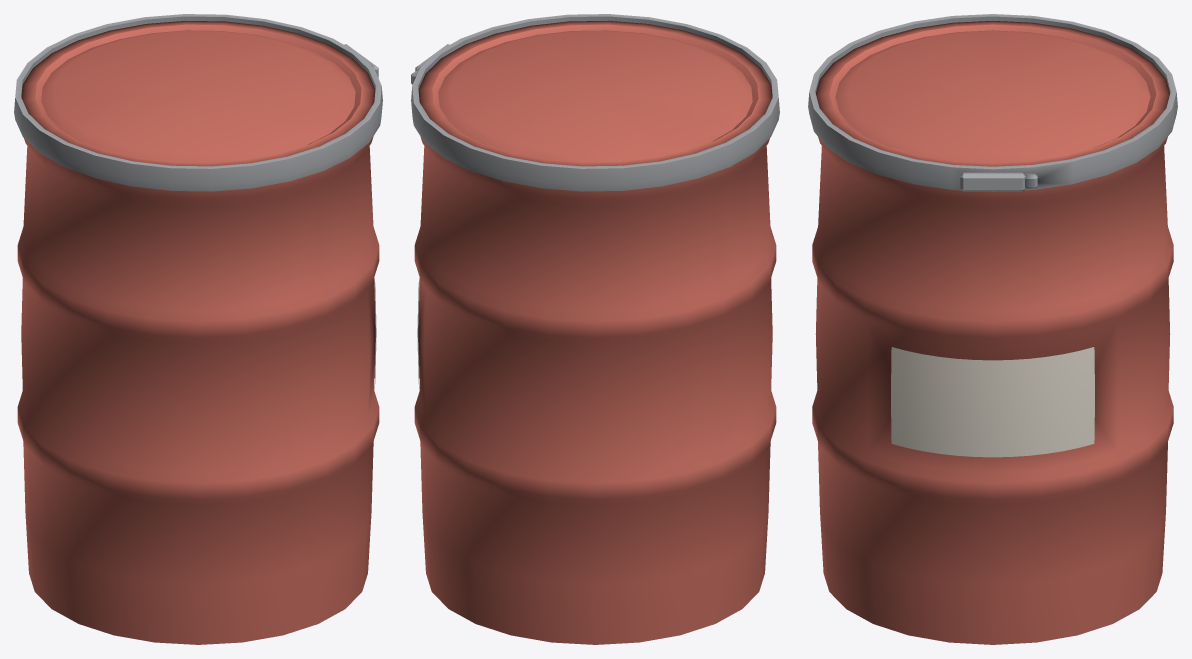
File: barrel.glb
The picture shows the model from 3 angles, left to right: view 1: azimuth 30°, elevation 25°; view 2: azimuth 150°, elevation 25°; view 3: azimuth 270°, elevation 25°; orthographic projection.
Visible parts, largest first — view 1: PART, LID; view 2: PART, LID; view 3: PART, LID.
Boxes of the visible parts, bbox=[...] form: PART: bbox=[17, 136, 379, 644]; LID: bbox=[14, 14, 382, 191]; PART: bbox=[414, 136, 776, 644]; LID: bbox=[411, 14, 779, 191]; PART: bbox=[812, 137, 1173, 644]; LID: bbox=[808, 14, 1177, 191].
Bounding box in the file's own units: 0.632 × 0.9 × 0.622.
